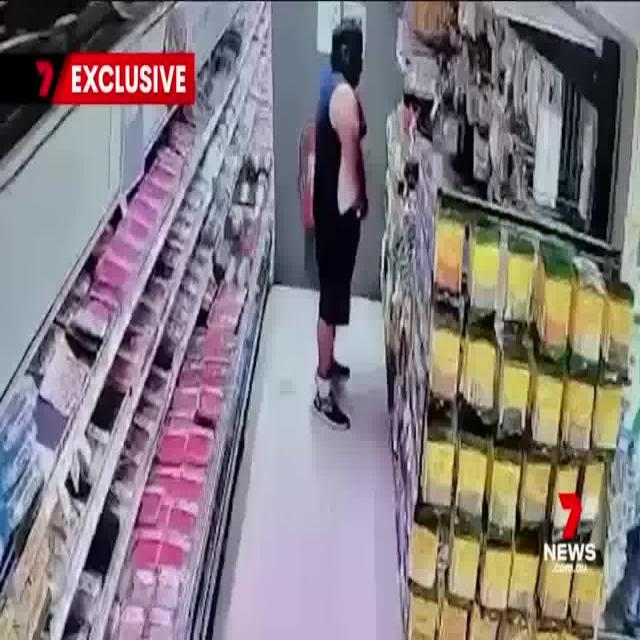persone: (307, 17, 369, 434)
